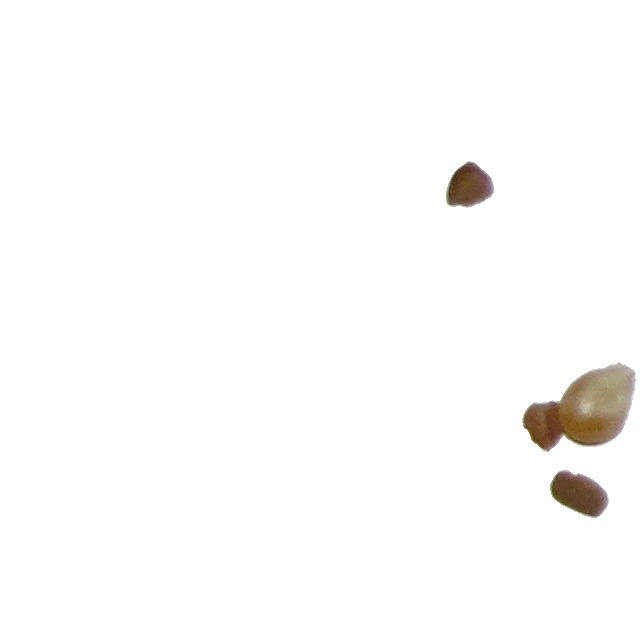buckwheat: (549, 469, 610, 519), (445, 160, 496, 209)
mais: (562, 361, 638, 451)
